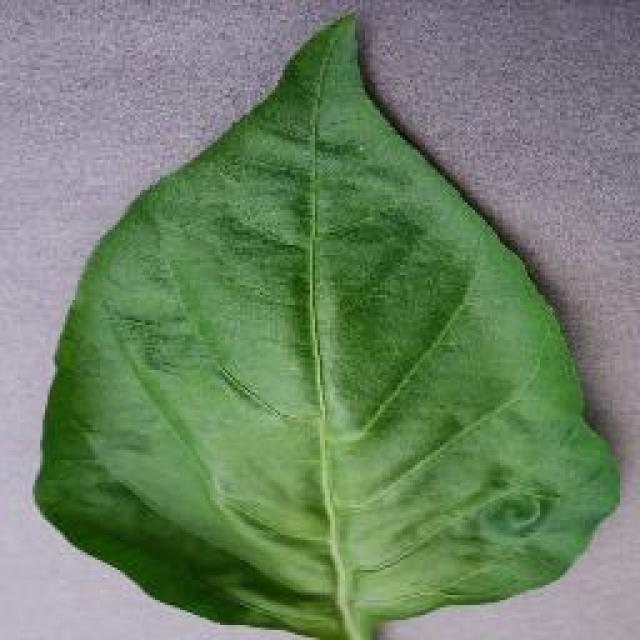Chilli_Healthy: (30, 8, 620, 638)
